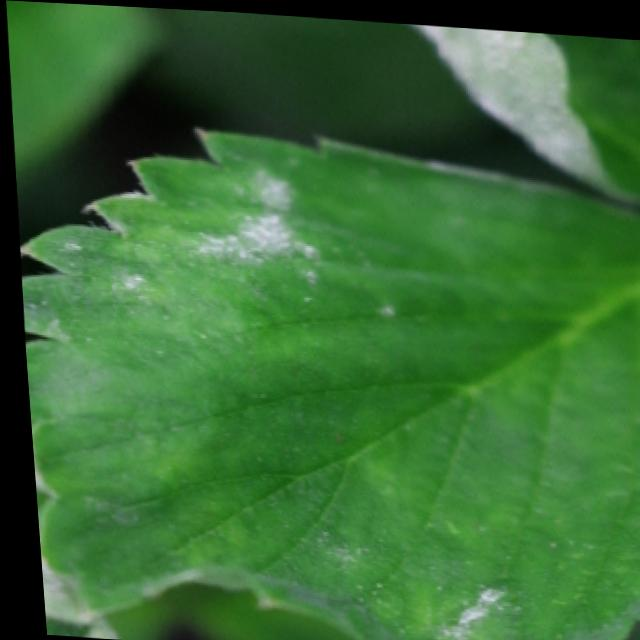Powdery Mildew Leaf: (15, 123, 640, 640), (406, 18, 640, 194)
